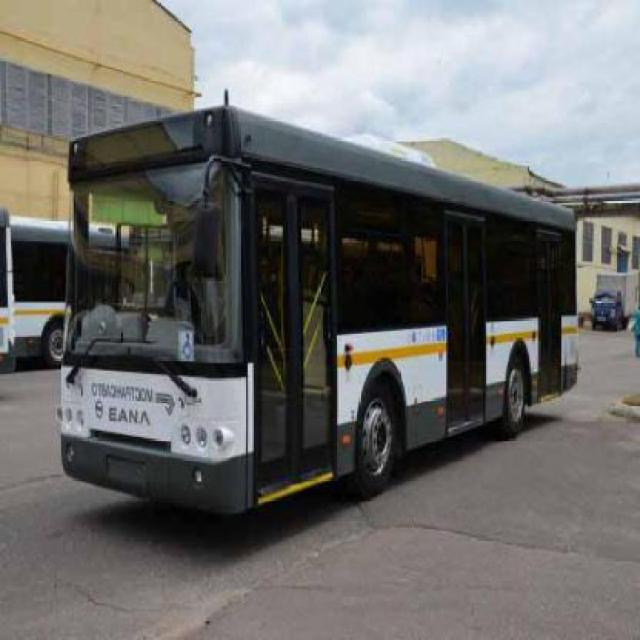bus: (55, 104, 584, 514), (3, 213, 134, 370)
